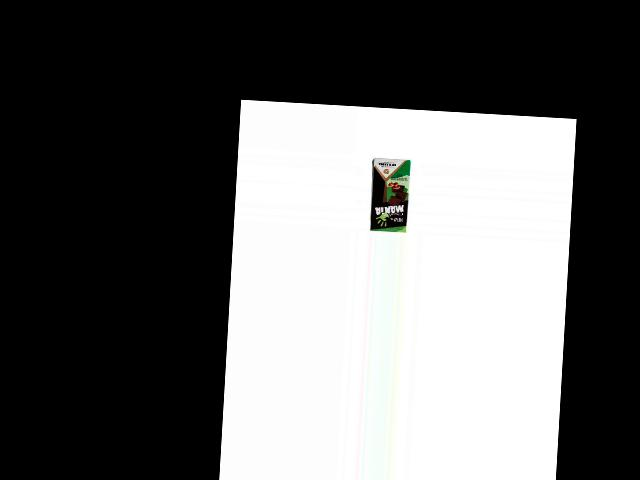chocolate: (367, 156, 412, 234)
